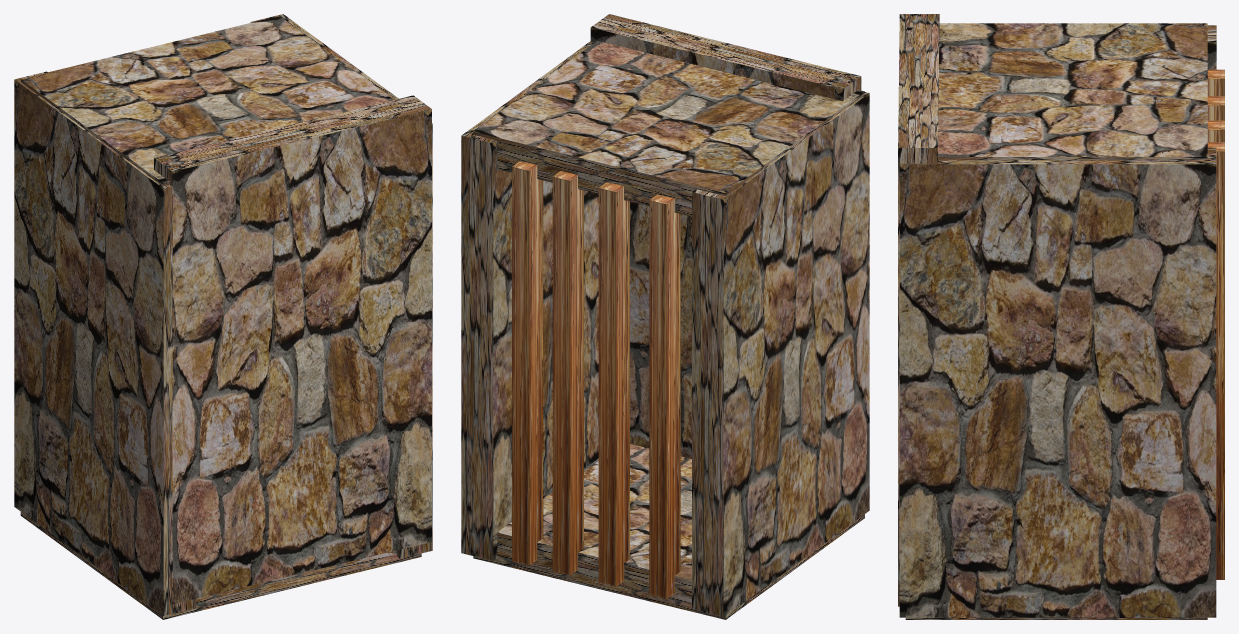
The model's file is cell.FBX.
3 renders of one model, left to right at view 1: azimuth 30°, elevation 25°; view 2: azimuth 150°, elevation 25°; view 3: azimuth 270°, elevation 25°, orthographic. The views are drawn at different scales.
Parts seen in each view (by area): view 1: Box002, Box001, Box005, Box004, Box003; view 2: Box001, Box005, Box003, Box002, Box007, Box008, Box006, Box009, Box004; view 3: Box003, Box005, Box002, Box009, Box004, Box006.
Part boxes in pixels (x1,y1,x2,y2): Box002: (154,95,431,604); Box001: (14,71,196,615); Box005: (20,16,393,186); Box004: (20,512,421,619); Box003: (250,14,432,558); Box001: (692,92,869,617); Box005: (473,41,864,216); Box003: (461,41,598,560); Box002: (590,14,861,458); Box007: (598,182,629,586); Box008: (552,171,583,575); Box006: (649,194,680,599); Box009: (512,161,543,565); Box004: (473,444,864,619); Box003: (899,147,1216,617); Box005: (938,23,1207,160); Box002: (898,14,939,606); Box009: (1207,142,1224,579); Box004: (905,617,1207,619); Box006: (1207,69,1224,96).
Bounding box in the file's own units: 209 × 334 × 208.
Materials: 2 (2 with a texture image).
